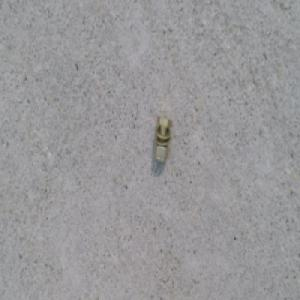BoltNutSet: (151, 115, 173, 162)
